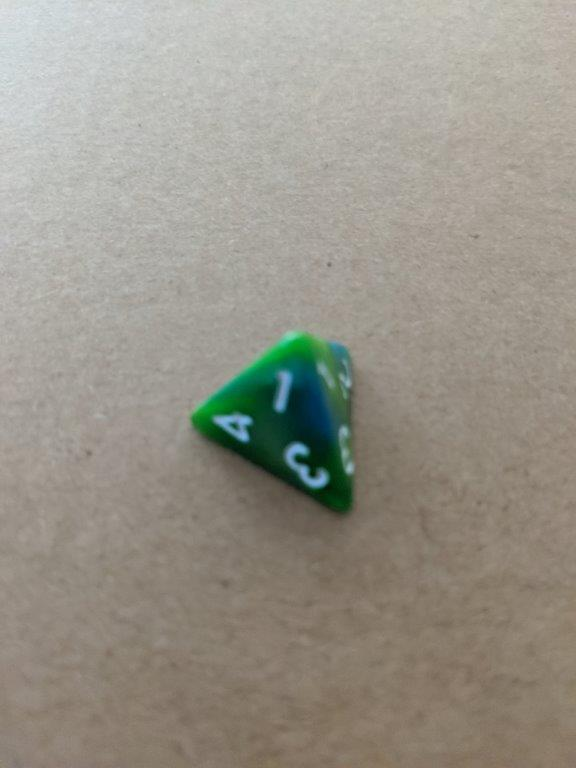d4-1: (188, 329, 362, 522)
